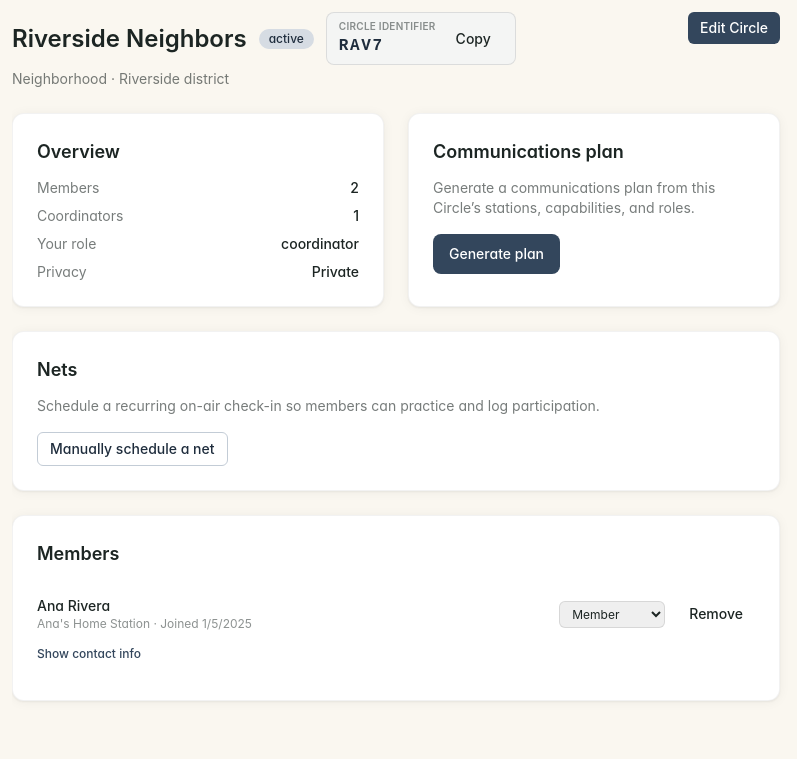
Test: CircleDetailPage members list › gracefully formats a partial address when only some parts are shared
The width and height of the screenshot is (797, 759).
Click the button "Show contact info" at (89, 654), box left=37, top=646, right=141, bottom=662
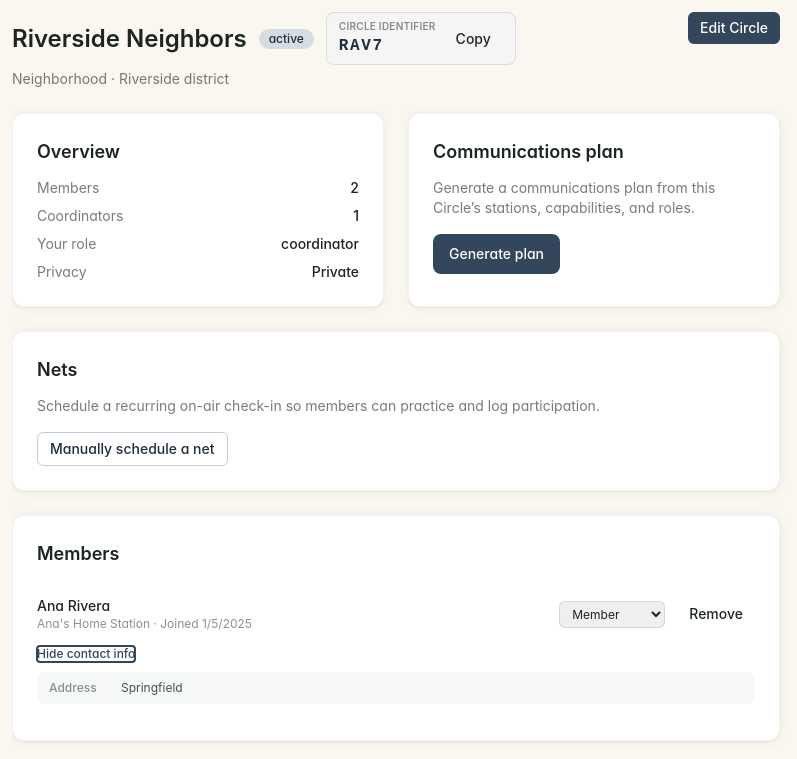
Expected: the text "Springfield" is shown, left=121, top=680, right=183, bottom=696
